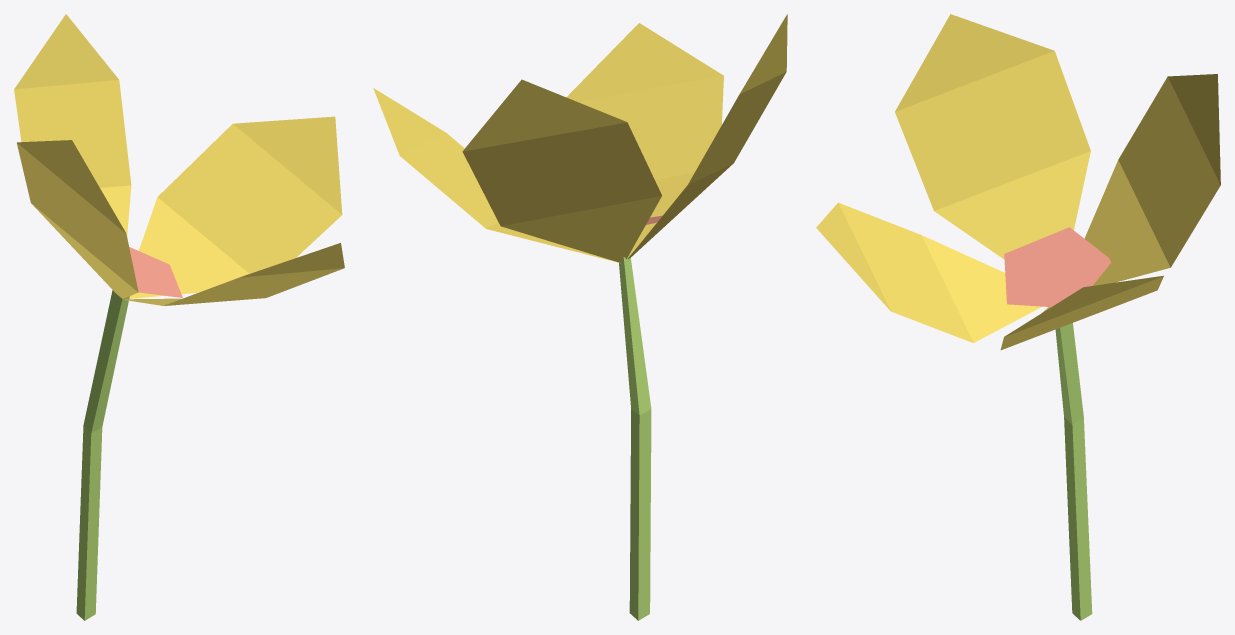
The model's file is Flower_d_TwoS_01.fbx.
3 views of the same model, side by side, from view 1: azimuth 30°, elevation 25°; view 2: azimuth 150°, elevation 25°; view 3: azimuth 270°, elevation 25° (orthographic). The views are drawn at different scales.
Visible parts, largest first — view 1: Flower_d_TwoS_01; view 2: Flower_d_TwoS_01; view 3: Flower_d_TwoS_01.
Boxes of the visible parts, left/top/right/bottom form: Flower_d_TwoS_01: left=14, top=14, right=344, bottom=620; Flower_d_TwoS_01: left=373, top=14, right=787, bottom=620; Flower_d_TwoS_01: left=816, top=14, right=1220, bottom=620.
Size of the model in its own units: 19.3 by 30.15 by 19.56.
